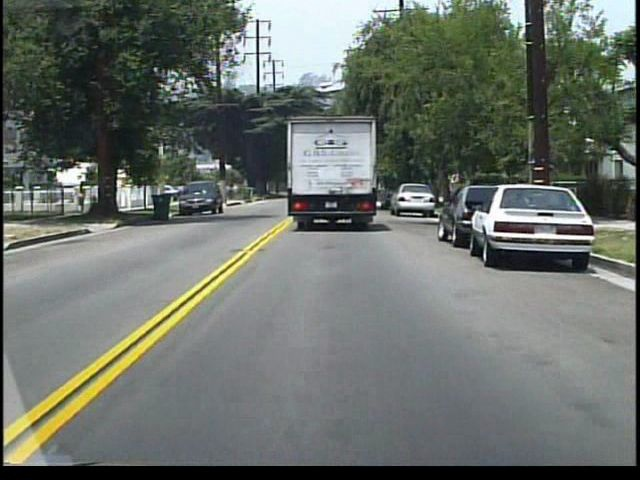person: (78, 180, 90, 215)
